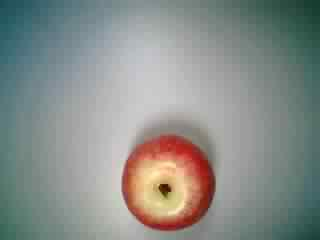apple: (119, 130, 223, 234)
